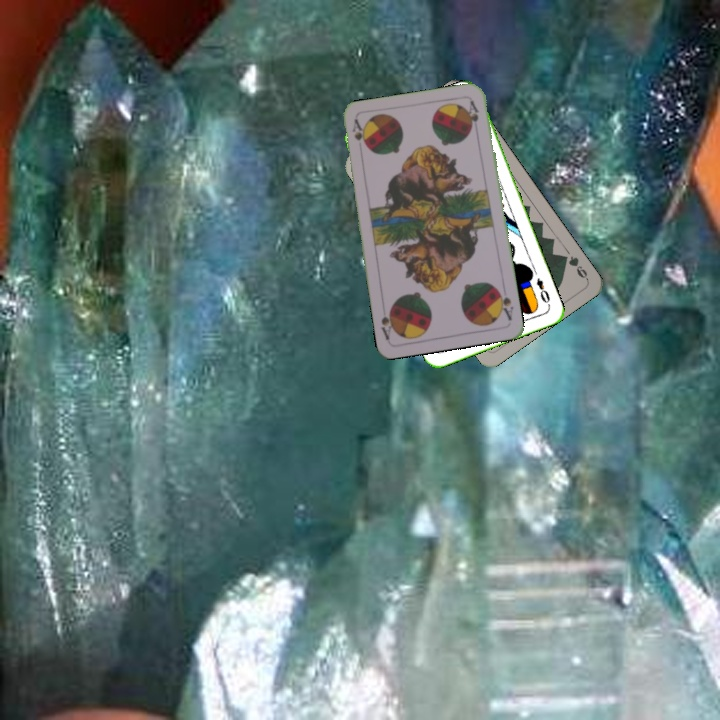EO: (532, 274, 552, 306)
G9: (557, 251, 591, 282)
SA: (493, 284, 516, 323), (348, 116, 367, 148)
